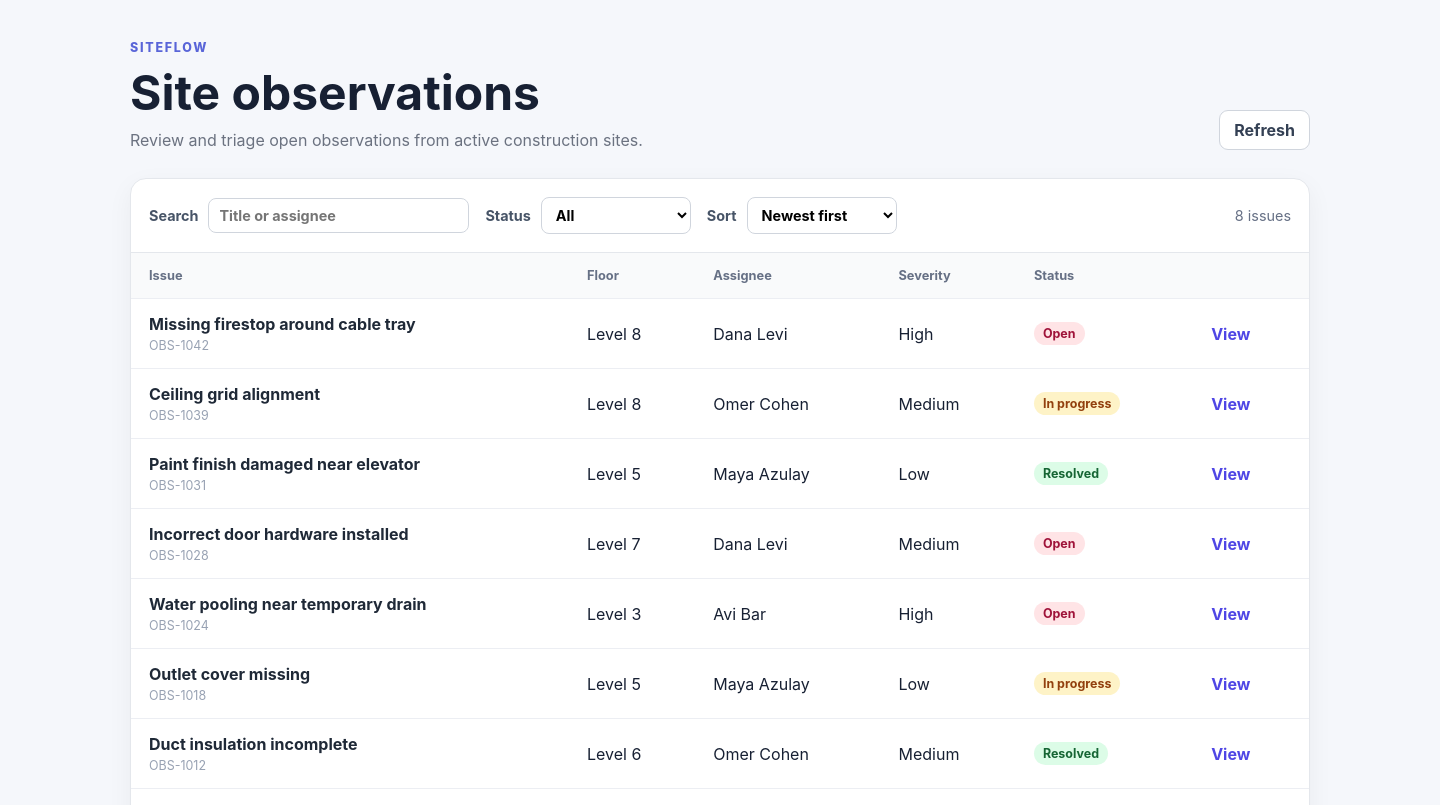
it: App issue details › removes a resolved issue from the open filter after updating
Select "Open" in the dropdown labelled "Status" at (616, 216), box top-left (541, 197), bottom-right (691, 234)
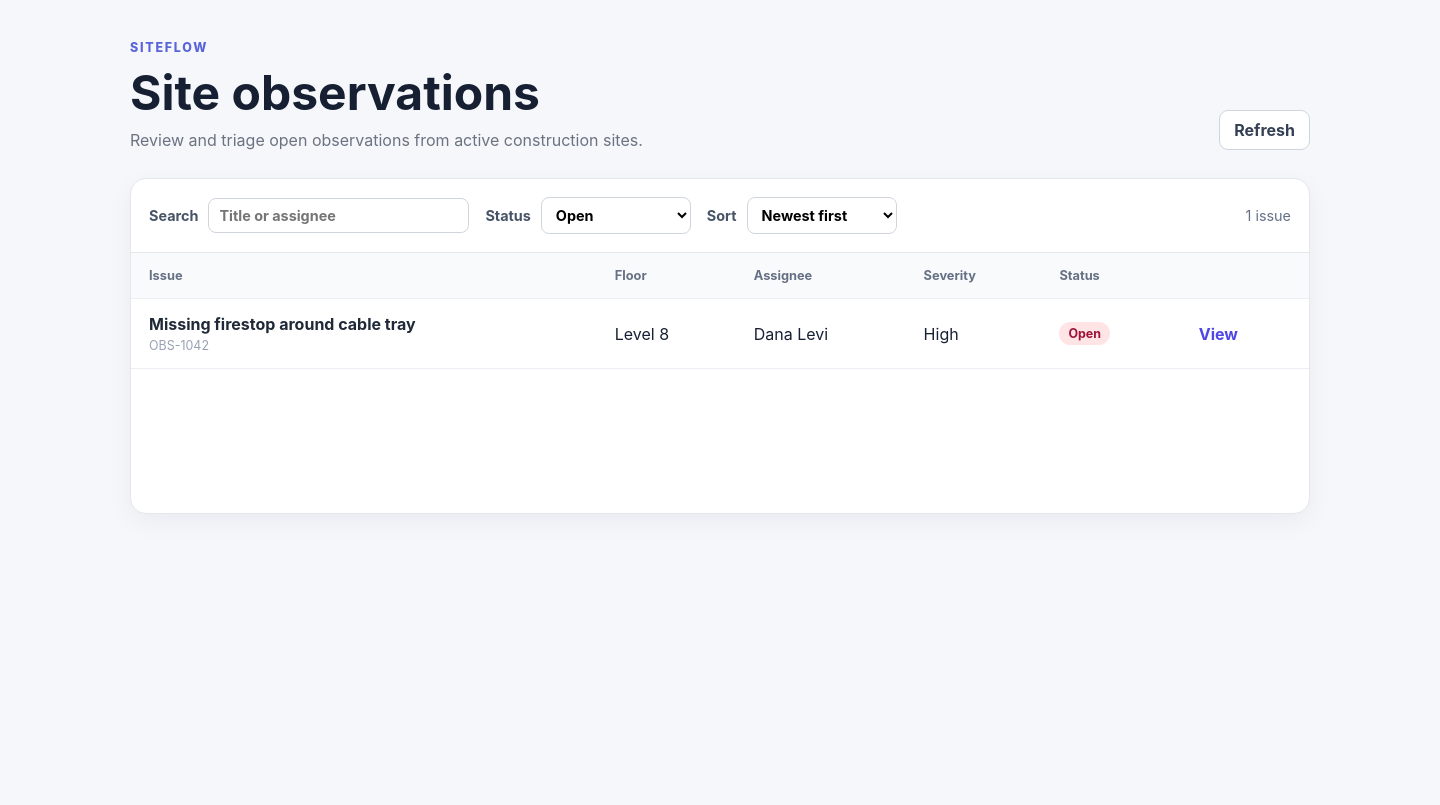
Expected: the text "1 issue" is shown, top-left (1246, 207), bottom-right (1291, 224)
Click the button "View".
click(1218, 334)  # box top-left (1193, 322), bottom-right (1244, 344)
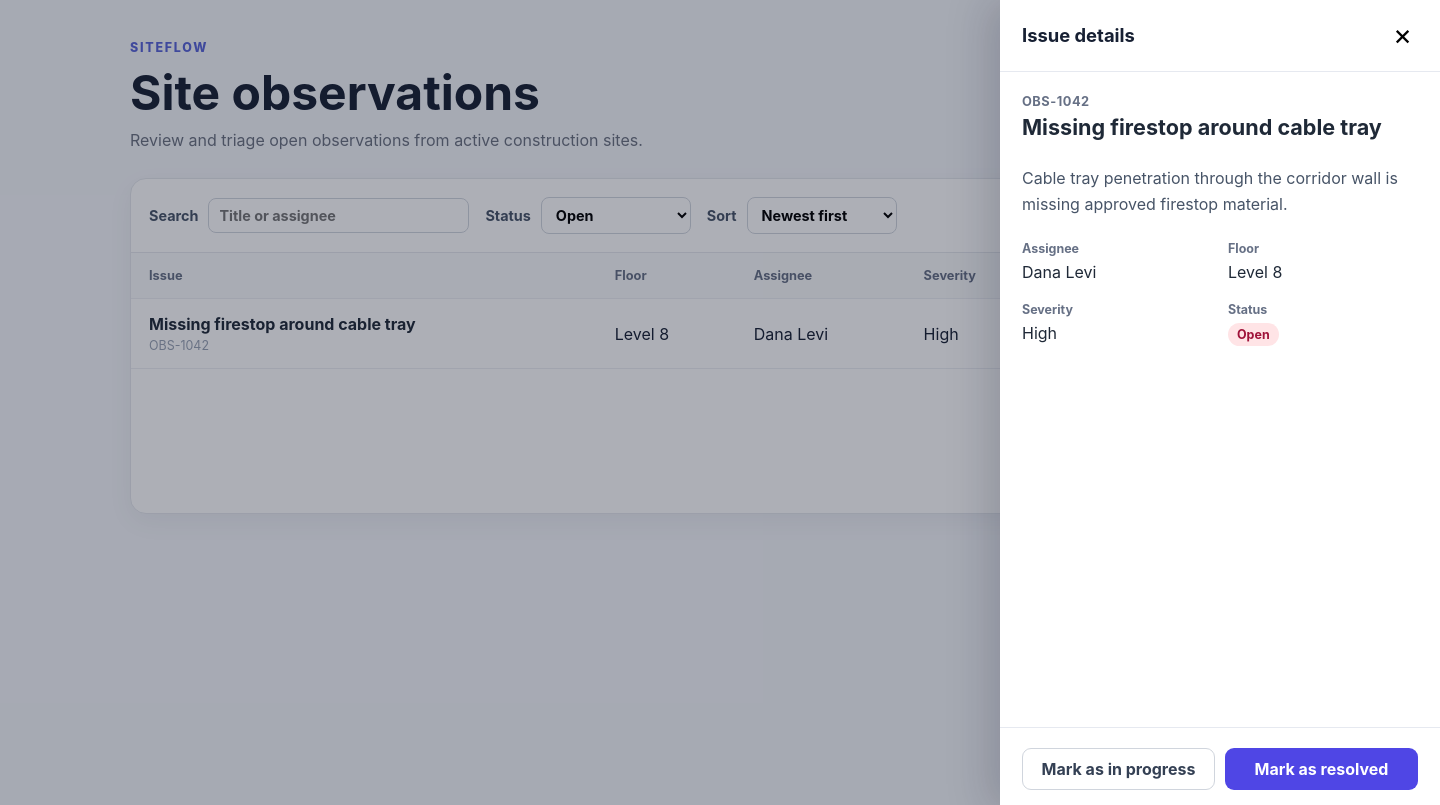
Click the button "Mark as resolved".
click(1322, 769)  # box top-left (1225, 748), bottom-right (1418, 790)
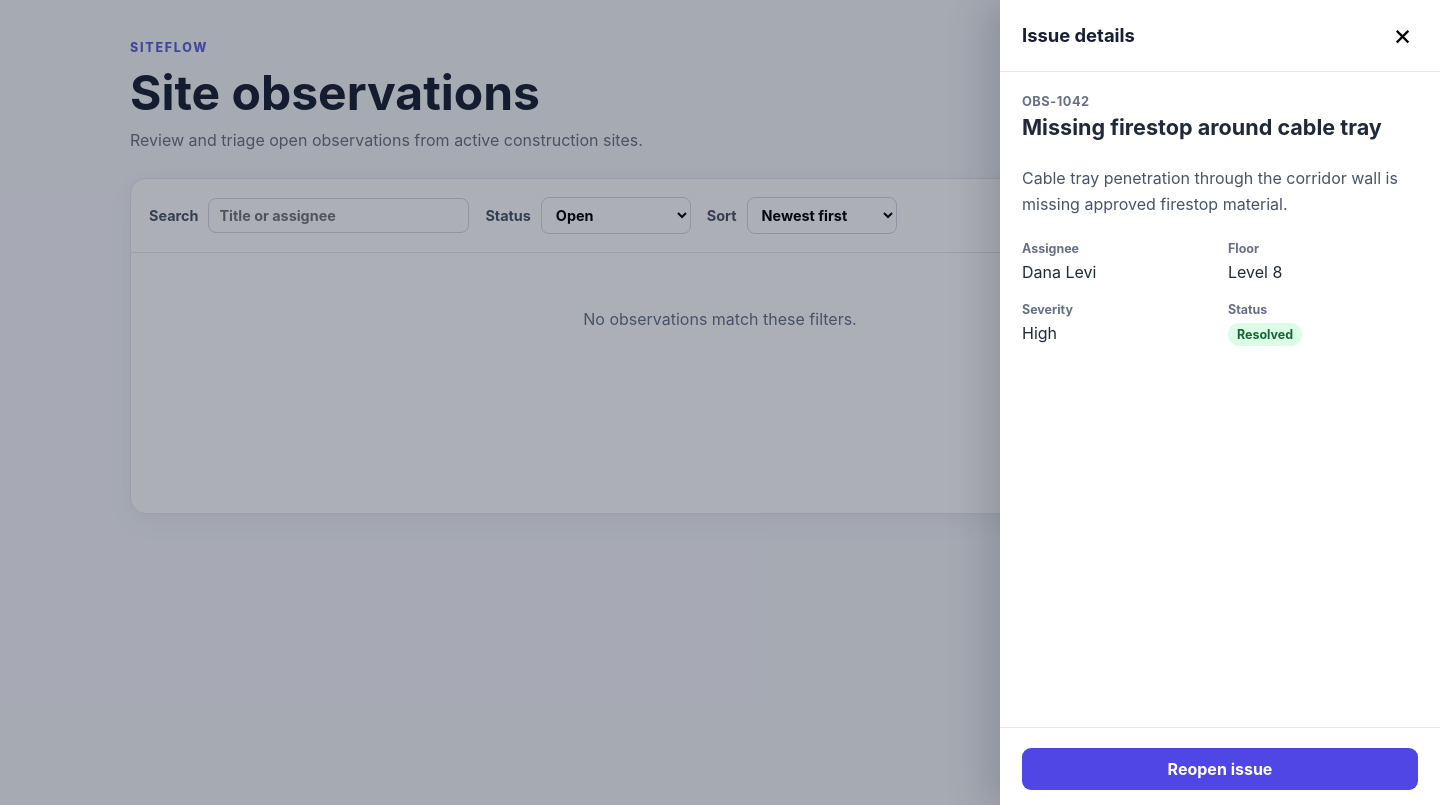
Expected: the text "Resolved" is shown, top-left (1228, 323), bottom-right (1302, 346)
Expected: the table is gone
Expected: the text "No observations match these filters." is shown, top-left (583, 309), bottom-right (857, 329)
